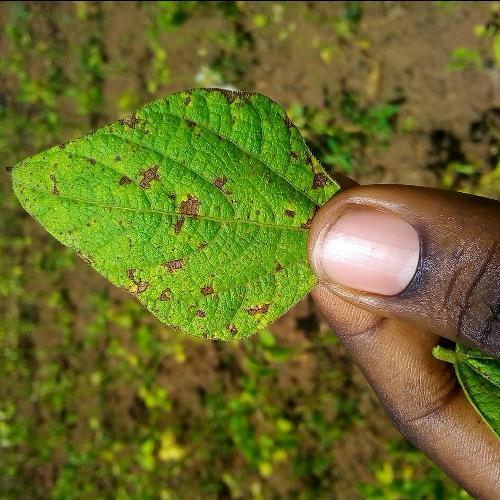mozaik: (46, 64, 378, 326)
